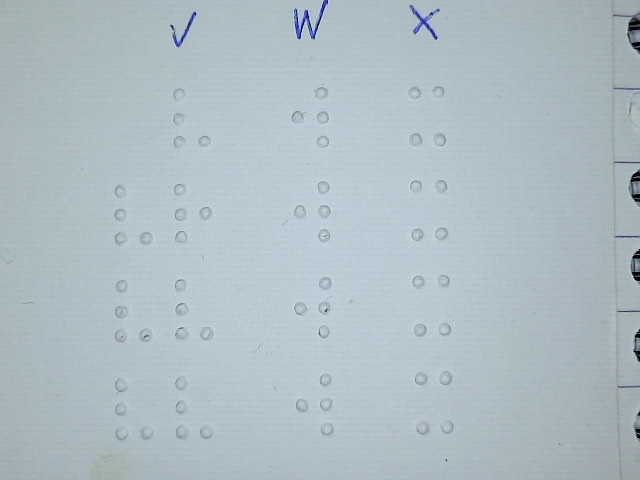V: (171, 86, 213, 149), (112, 183, 154, 246), (173, 278, 215, 341), (173, 376, 215, 439), (113, 376, 155, 439)
W: (289, 85, 331, 148), (291, 179, 333, 242), (291, 274, 333, 337), (294, 372, 336, 435)
X: (413, 369, 454, 435), (406, 83, 448, 146), (408, 178, 450, 241), (410, 273, 452, 336)
